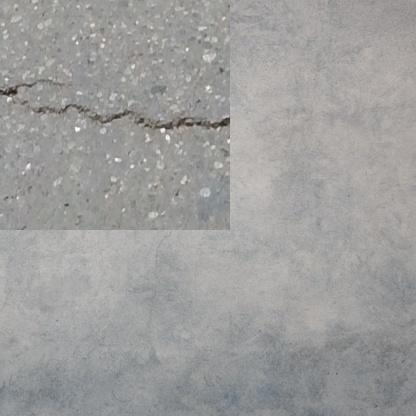Cracks: (27, 94, 122, 117), (0, 71, 60, 100), (122, 105, 213, 122)
